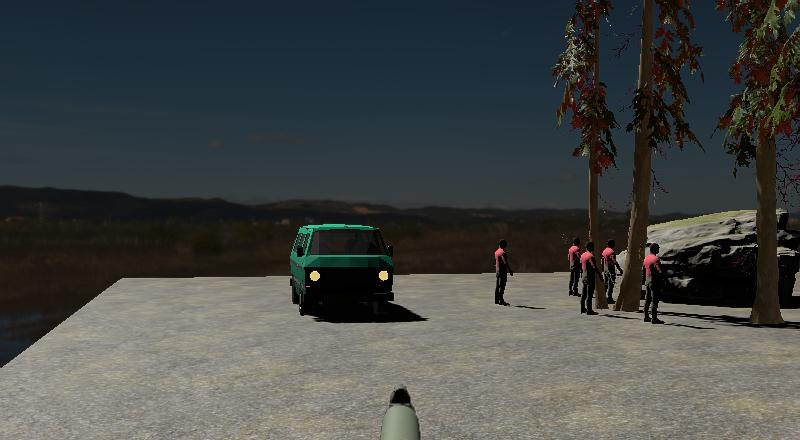Human: (640, 241, 668, 324), (579, 239, 602, 315), (600, 237, 623, 310), (494, 237, 513, 307), (566, 235, 584, 299)
car: (289, 222, 394, 319)
